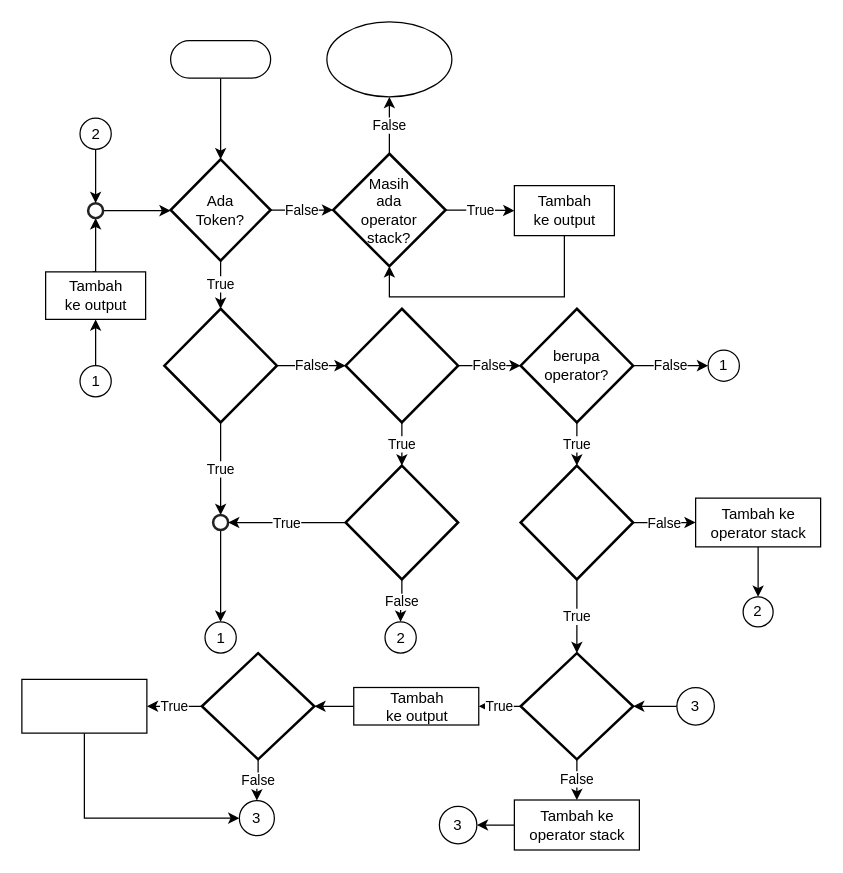
Image size: 843x873. Some labels were removed from this diagram. The shapes that lost their labels are listed below. From the top down, each one's centre as x and y in pixels, then its label:
the point at 220,58: MULAI
the point at 389,59: return ouput
the point at 220,365: operator == '(' ?
the point at 401,365: operator == ')' ?
the point at 401,522: operator != '(' ?
the point at 576,522: operator stack?
the point at 84,705: Change Current Operator
the point at 257,705: operator stack ?
the point at 576,705: higher precedence ?
